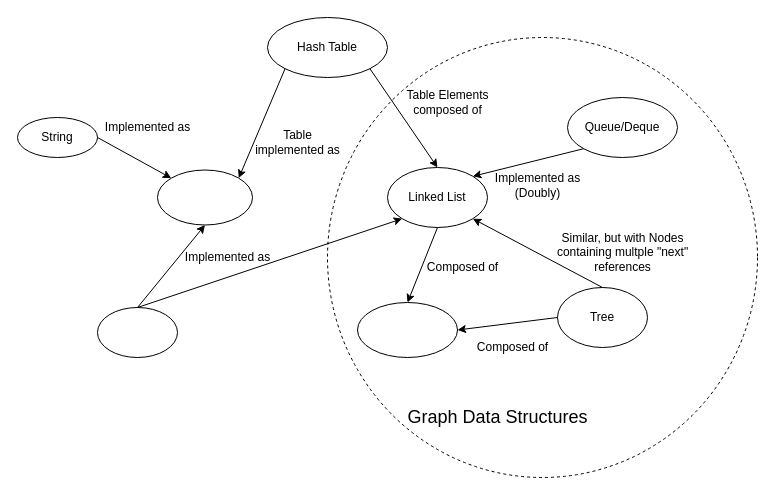
The diagram is 775 pixels wide and 495 high, and some of its shapes have lost their labels. Here are the shapes that lost their labels. From the top down, the centre of each, then its label:
(204,197): Array
(137,332): Stack
(407,330): Node
